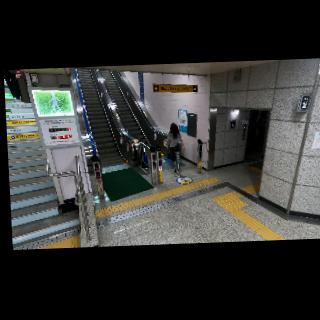normal: (163, 120, 187, 173)
